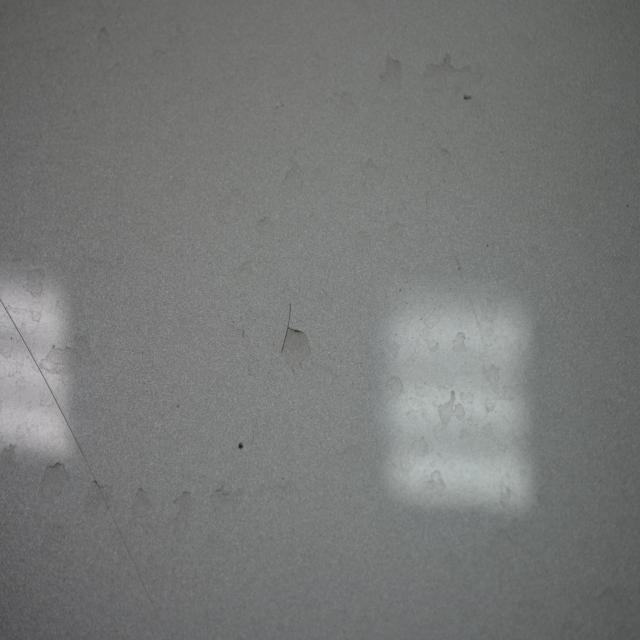dirt: (235, 440, 248, 454), (461, 88, 472, 100)
scratch: (0, 293, 172, 640)
water marks: (38, 334, 95, 382), (204, 476, 249, 523), (276, 324, 316, 376), (483, 360, 517, 419), (82, 473, 117, 529), (274, 148, 308, 204), (437, 386, 469, 436), (39, 457, 73, 503), (18, 261, 51, 303), (126, 479, 155, 526), (360, 154, 390, 196), (169, 482, 194, 530), (400, 433, 433, 468), (253, 209, 285, 245), (0, 436, 22, 482), (379, 374, 408, 405), (425, 467, 447, 498), (449, 329, 470, 356)
